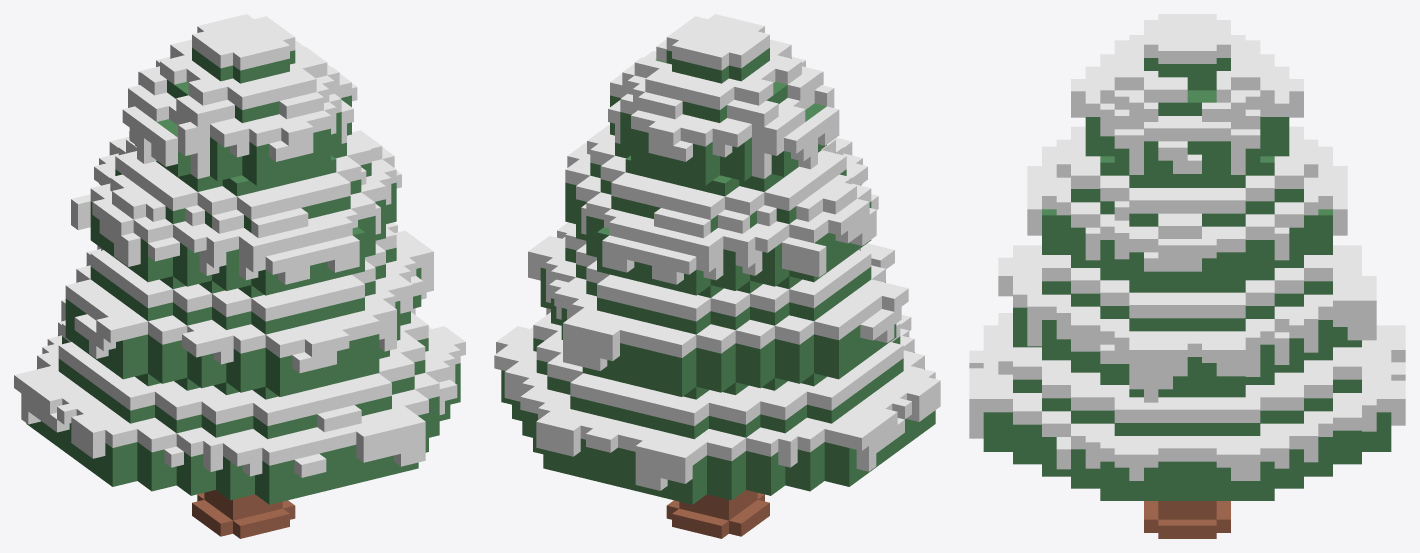
Rendered from tree5.vox.obj.
3 views of the same model, side by side, from view 1: azimuth 30°, elevation 25°; view 2: azimuth 150°, elevation 25°; view 3: azimuth 270°, elevation 25° (orthographic).
Bounding box in the file's own units: 3 × 3.7 × 3.
1 material, 1 textured.
